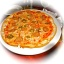pizza: (1, 9, 57, 51)
